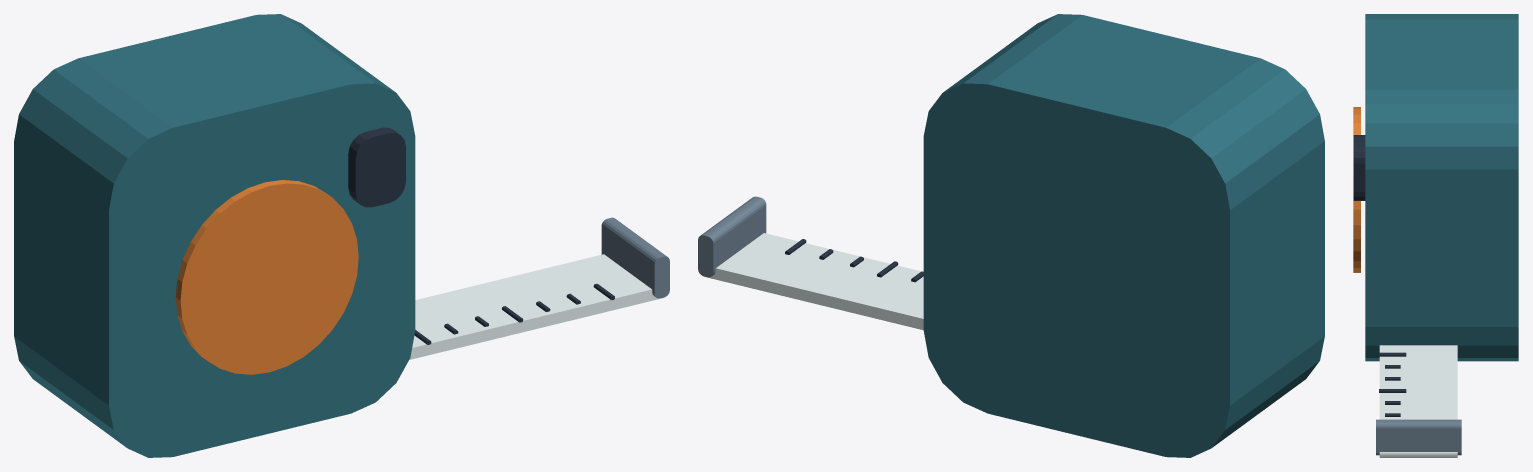
The model's file is taperule.glb.
3 views of the same model, side by side, from view 1: azimuth 30°, elevation 25°; view 2: azimuth 150°, elevation 25°; view 3: azimuth 270°, elevation 25° (orthographic). The views are drawn at different scales.
Visible parts, largest first — view 1: housing, case inset, blade, lock button, end hook; view 2: housing, blade, end hook; view 3: housing, blade, end hook, case inset, lock button.
Boxes of the visible parts, <box> form: housing: <box>14,14,415,457</box>; case inset: <box>175,180,358,374</box>; blade: <box>409,254,664,359</box>; lock button: <box>348,127,405,207</box>; end hook: <box>601,217,669,298</box>; housing: <box>923,14,1324,457</box>; blade: <box>703,233,923,330</box>; end hook: <box>698,196,766,277</box>; housing: <box>1365,14,1518,361</box>; blade: <box>1379,345,1457,457</box>; end hook: <box>1376,419,1461,455</box>; case inset: <box>1353,107,1360,272</box>; lock button: <box>1353,135,1365,200</box>.
Size of the model in its own units: 2.04 by 1.13 by 0.637.
